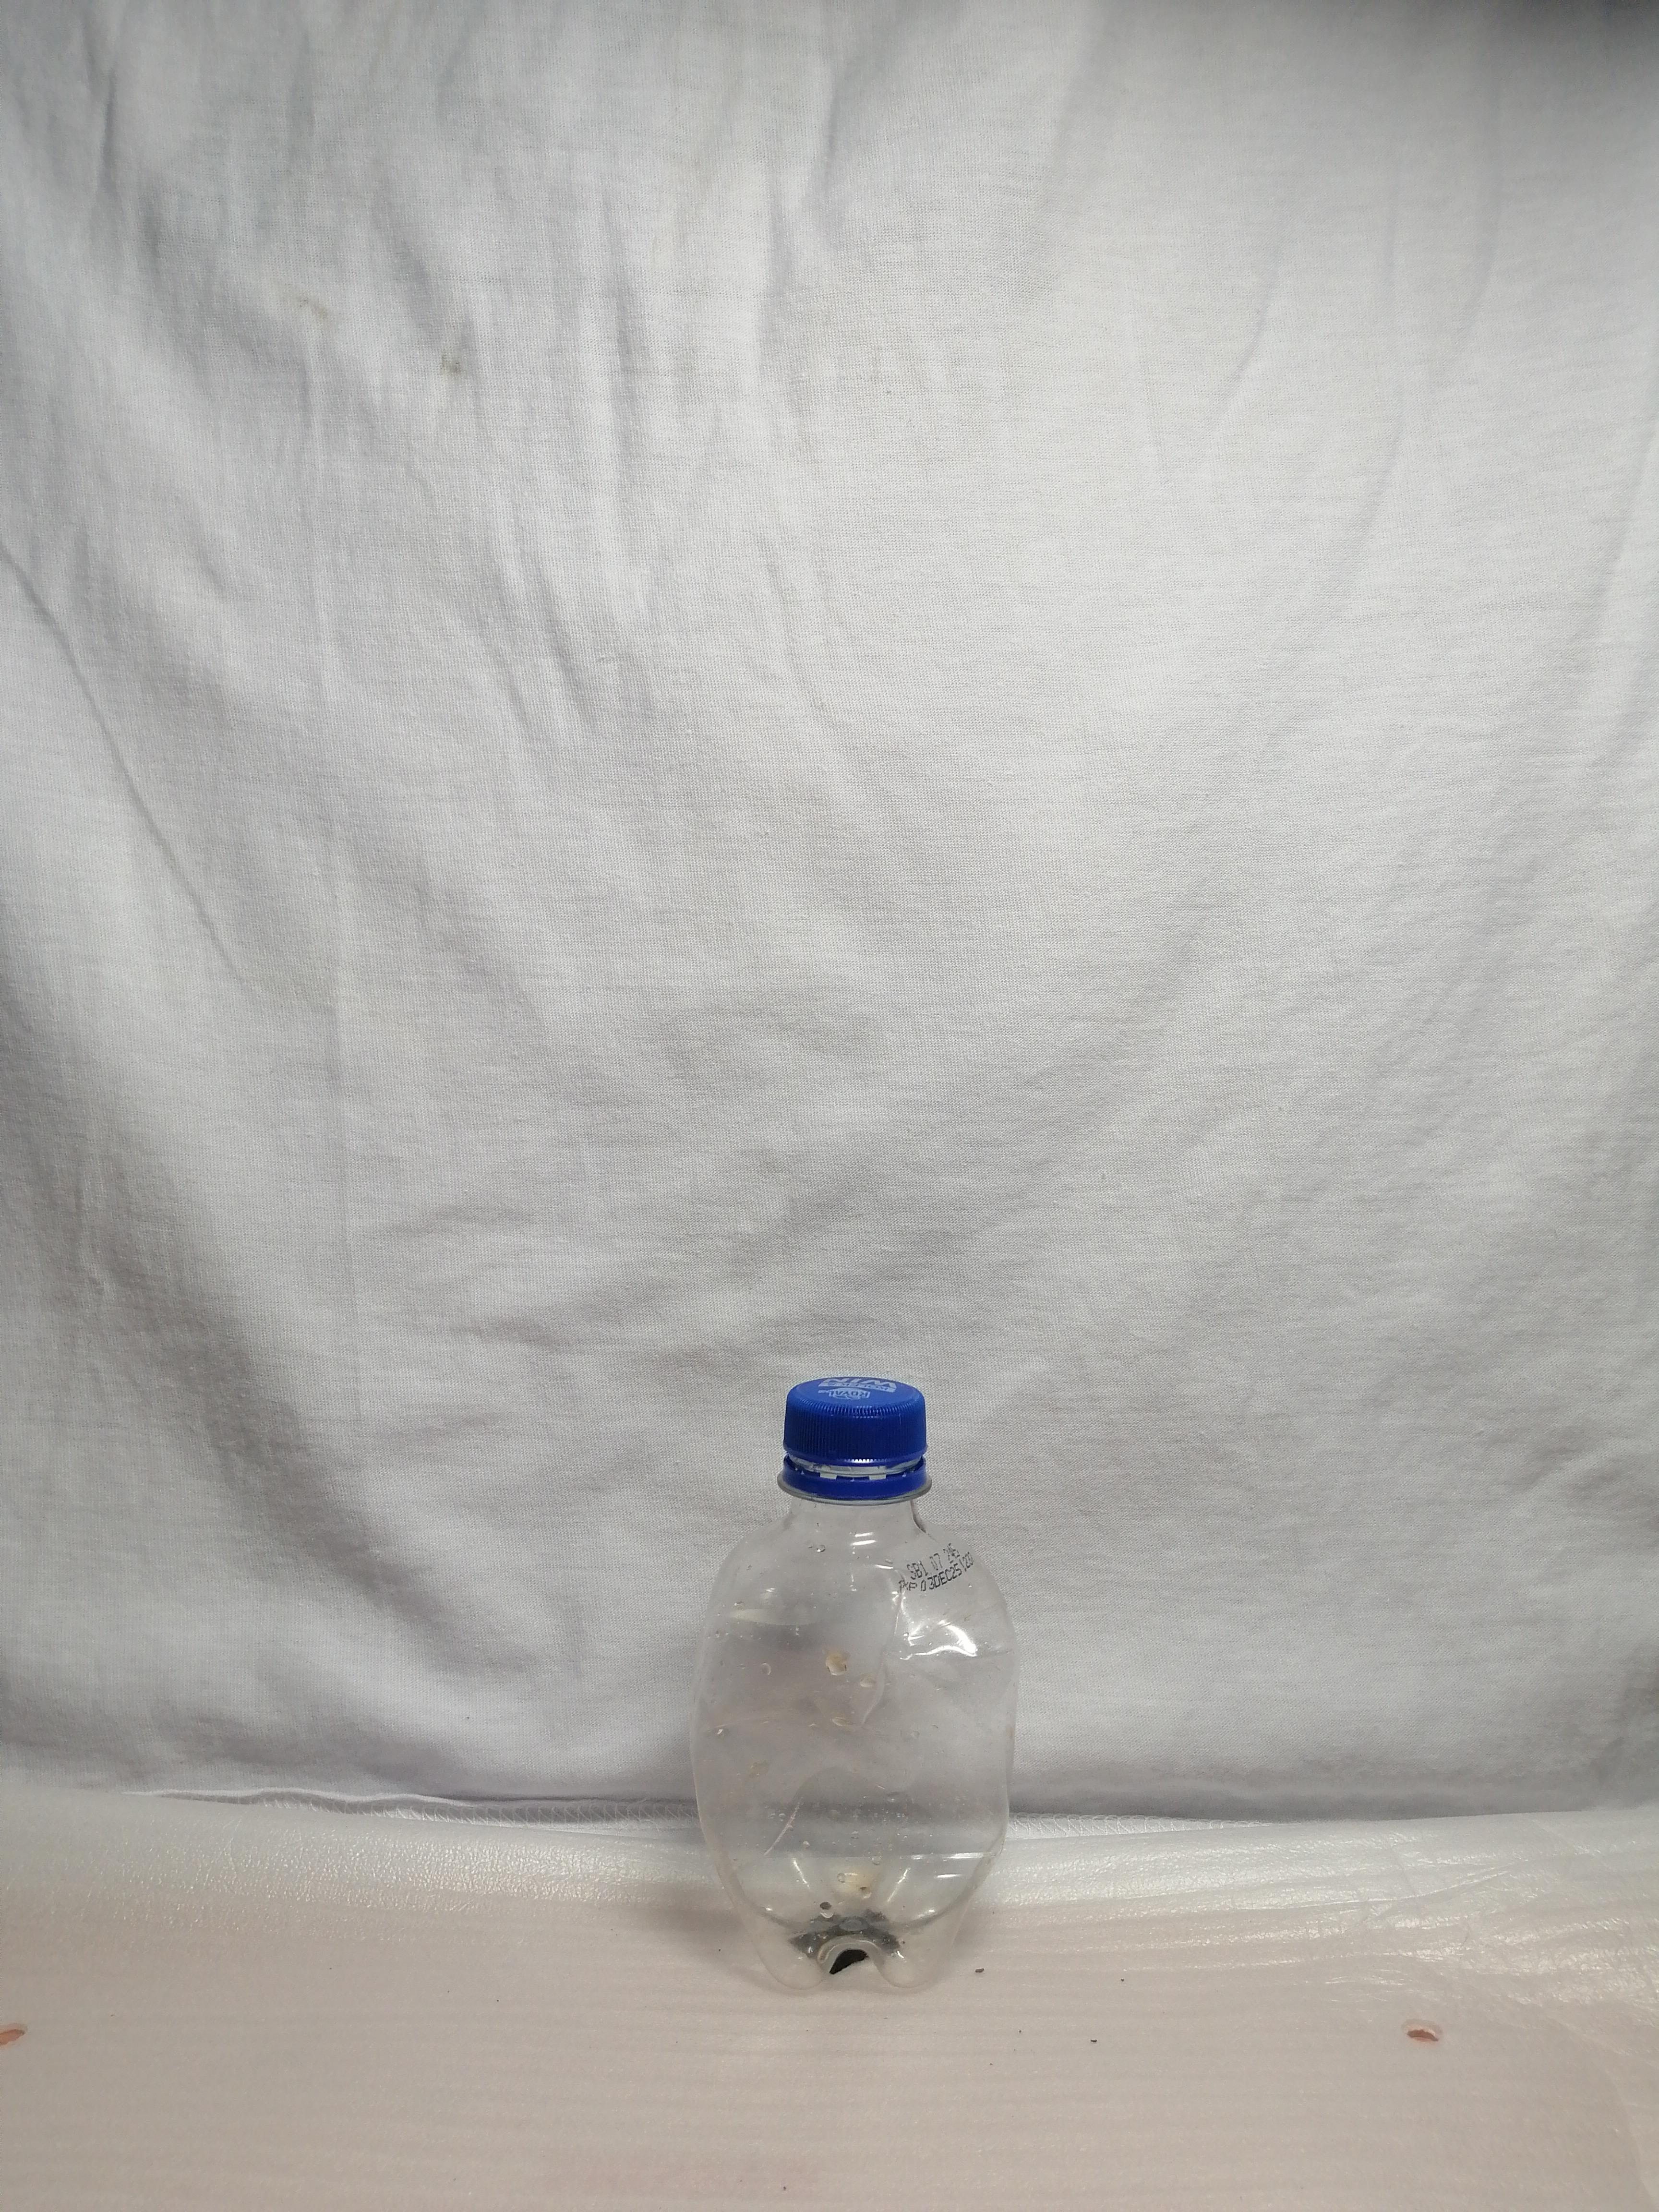plastic-bottle: (619, 1262, 1075, 2045)
